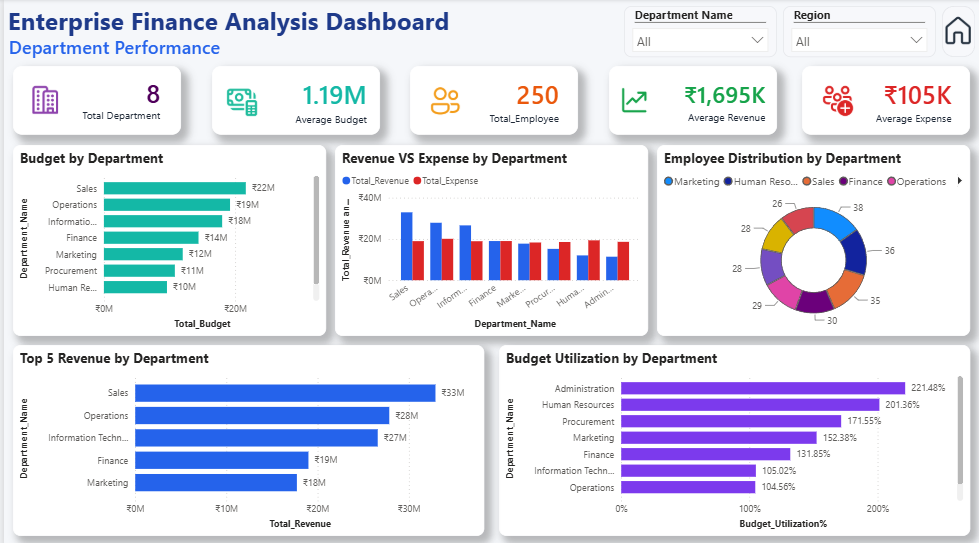

The page's visual inventory and layout, read from the dashboard file:
{"tool":"powerbi","page":{"name":"Department Performance","canvas":[1280,720],"ordinal":2},"visuals":[{"type":"textbox","box":[0,0,693.3,70],"z":0},{"type":"shape","box":[1227.7,8.9,43.3,66.7],"z":0,"group":"g1"},{"type":"image","box":[1224.4,20,50,44.4],"z":1000,"group":"g1"},{"type":"cardVisual","fields":{"Data":["department.Total Department"]},"box":[12.4,88.3,220,90],"z":1000},{"type":"cardVisual","fields":{"Data":["revenue.Average Revenue"]},"box":[791.9,88.3,220,90],"z":2000},{"type":"cardVisual","fields":{"Data":["expense.Average Expense"]},"box":[1045,88.3,220,90],"z":3000},{"type":"cardVisual","fields":{"Data":["budget.Average_Budgets"]},"box":[272.2,88.3,220,90],"z":4000},{"type":"textbox","box":[1.7,40,308.3,41.7],"z":5000},{"type":"cardVisual","fields":{"Data":["employee.Total_Employee"]},"box":[532,88.3,220,90],"z":6000},{"type":"clusteredBarChart","title":"Budget by Department","fields":{"Category":["department.Department_Name"],"Y":["budget.Total_Budget"]},"box":[11.7,191.7,410,250],"z":7000},{"type":"clusteredColumnChart","title":"Revenue VS Expense by Department","fields":{"Category":["department.Department_Name"],"Y":["revenue.Total_Revenue","expense.Total_Expense"]},"box":[433.3,191.7,410,250],"z":8000},{"type":"donutChart","title":"Employee Distribution by Department","fields":{"Category":["department.Department_Name"],"Y":["employee.Total_Employee"]},"box":[855,191.7,410,250],"z":9000},{"type":"barChart","title":"Budget Utilization by Department","fields":{"Category":["department.Department_Name"],"Y":["budget.Budget_Utilization%"]},"box":[648.3,453.3,616.7,250],"z":10000},{"type":"barChart","title":"Top 5 Revenue by Department","fields":{"Category":["department.Department_Name"],"Y":["revenue.Total_Revenue"]},"box":[11.7,453.3,617,250],"z":11000},{"type":"image","box":[23.3,110,60,45],"z":13000},{"type":"image","box":[280,110,60,45],"z":14000},{"type":"image","box":[546.7,110,60,45],"z":15000},{"type":"image","box":[795,110,60,45],"z":16000},{"type":"image","box":[1060,110,60,45],"z":17000},{"type":"slicer","fields":{"Values":["region.Region_Name"]},"box":[812.2,8.9,200,66.7],"z":17001},{"type":"slicer","fields":{"Values":["region.Region_Name"]},"box":[1020,8.7,200,66.7],"z":17002},{"type":"group","id":"g1","title":"Group 1","box":[1224.4,8.9,50,66.7],"z":18000}]}

Visuals, with their boxes in screenshot pixels (x1, y1, x2, y2), scaled from the page's 1280x720 canvas onto the 979x543 screenshot:
textbox: bbox=[0, 0, 530, 53]
shape: bbox=[939, 7, 972, 57]
image: bbox=[936, 15, 975, 49]
cardVisual - department.Total Department: bbox=[9, 67, 178, 134]
cardVisual - revenue.Average Revenue: bbox=[606, 67, 774, 134]
cardVisual - expense.Average Expense: bbox=[799, 67, 968, 134]
cardVisual - budget.Average_Budgets: bbox=[208, 67, 376, 134]
textbox: bbox=[1, 30, 237, 62]
cardVisual - employee.Total_Employee: bbox=[407, 67, 575, 134]
"Budget by Department" clusteredBarChart: bbox=[9, 145, 323, 333]
"Revenue VS Expense by Department" clusteredColumnChart: bbox=[331, 145, 645, 333]
"Employee Distribution by Department" donutChart: bbox=[654, 145, 968, 333]
"Budget Utilization by Department" barChart: bbox=[496, 342, 968, 530]
"Top 5 Revenue by Department" barChart: bbox=[9, 342, 481, 530]
image: bbox=[18, 83, 64, 117]
image: bbox=[214, 83, 260, 117]
image: bbox=[418, 83, 464, 117]
image: bbox=[608, 83, 654, 117]
image: bbox=[811, 83, 857, 117]
slicer - region.Region_Name: bbox=[621, 7, 774, 57]
slicer - region.Region_Name: bbox=[780, 7, 933, 57]
"Group 1" group: bbox=[936, 7, 975, 57]
